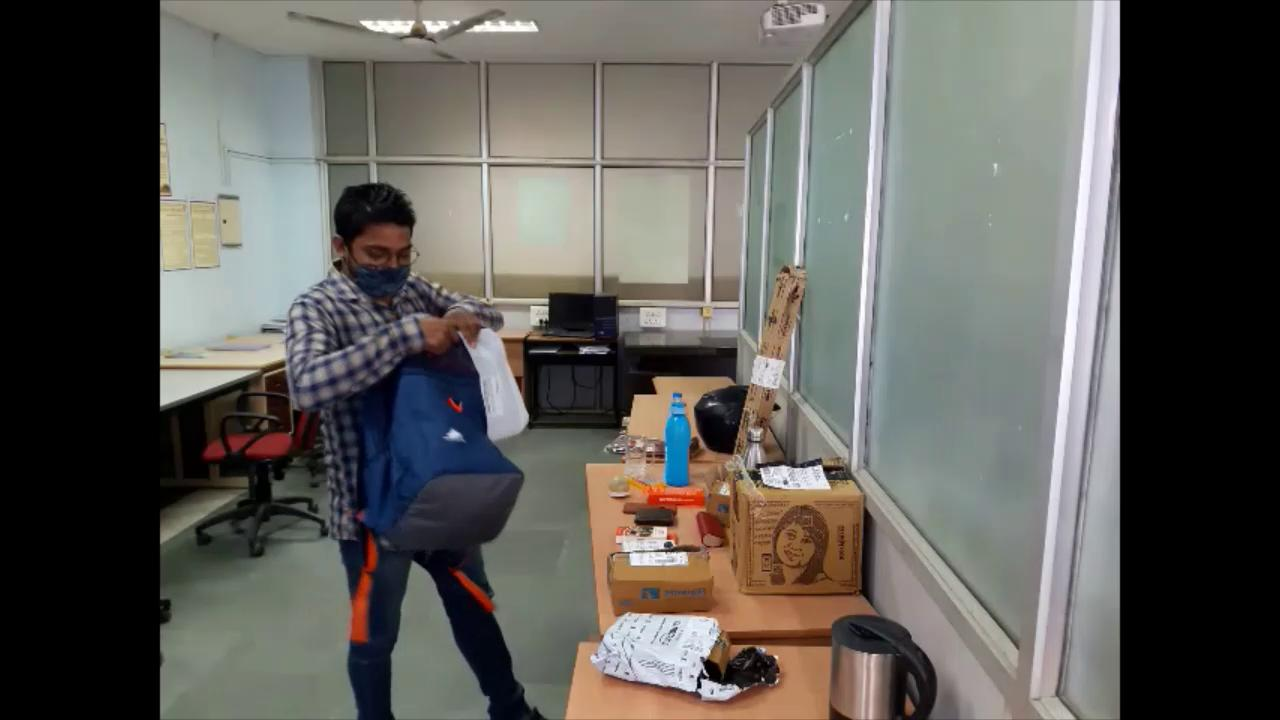shoplifting: (270, 169, 556, 720)
